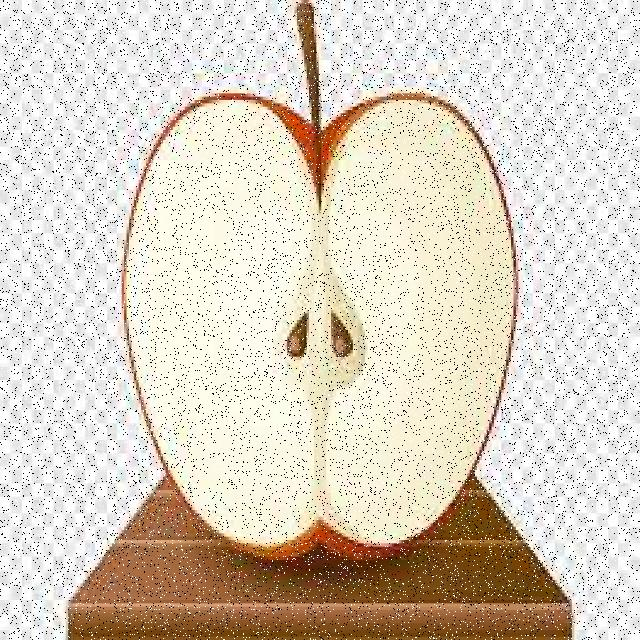Apple: (121, 92, 518, 562)
